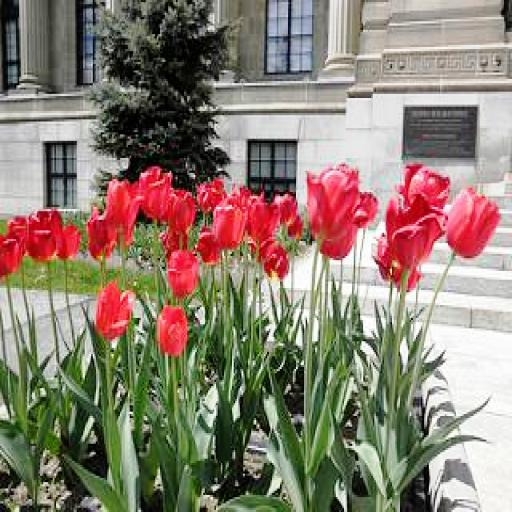tulip: (301, 160, 363, 250), (384, 196, 442, 275), (445, 182, 499, 262), (92, 282, 138, 341), (26, 205, 66, 264), (102, 177, 144, 230), (155, 305, 192, 358), (139, 162, 171, 220), (213, 196, 246, 252), (244, 190, 278, 243), (165, 248, 198, 296), (164, 184, 194, 232)
